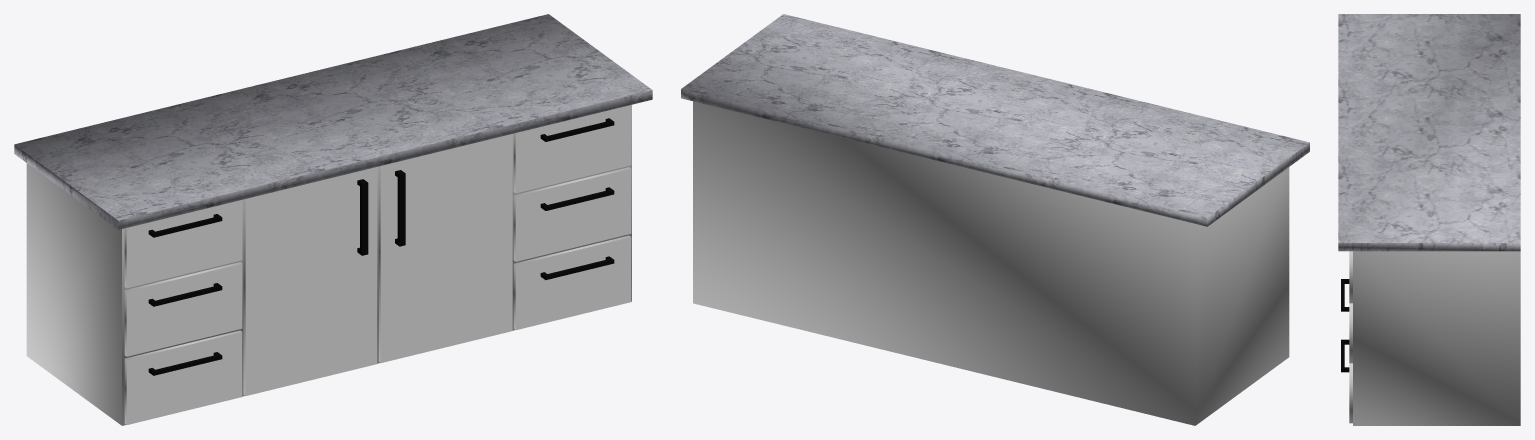
Rendered from drawer.dae.
3 renders of one model, left to right at view 1: azimuth 30°, elevation 25°; view 2: azimuth 150°, elevation 25°; view 3: azimuth 270°, elevation 25°, orthographic. The views are drawn at different scales.
Visible parts, largest first — view 1: Drawer.001, Drawer.002, Drawer; view 2: Drawer, Drawer.002; view 3: Drawer.002, Drawer, Drawer.001.
Part boxes in pixels (<box>): Drawer.001: <box>124,105,631,424</box>; Drawer.002: <box>14,14,652,229</box>; Drawer: <box>26,104,631,425</box>; Drawer: <box>693,101,1289,425</box>; Drawer.002: <box>681,14,1309,226</box>; Drawer.002: <box>1338,14,1520,251</box>; Drawer: <box>1353,251,1520,425</box>; Drawer.001: <box>1341,251,1352,423</box>.
Size of the model in its own units: 2.34 by 0.7892 by 0.8981.
